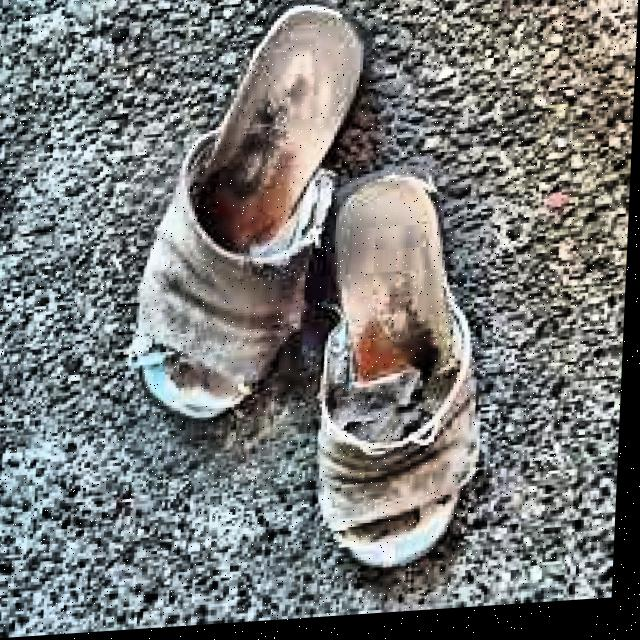shoes: (75, 0, 560, 602)
